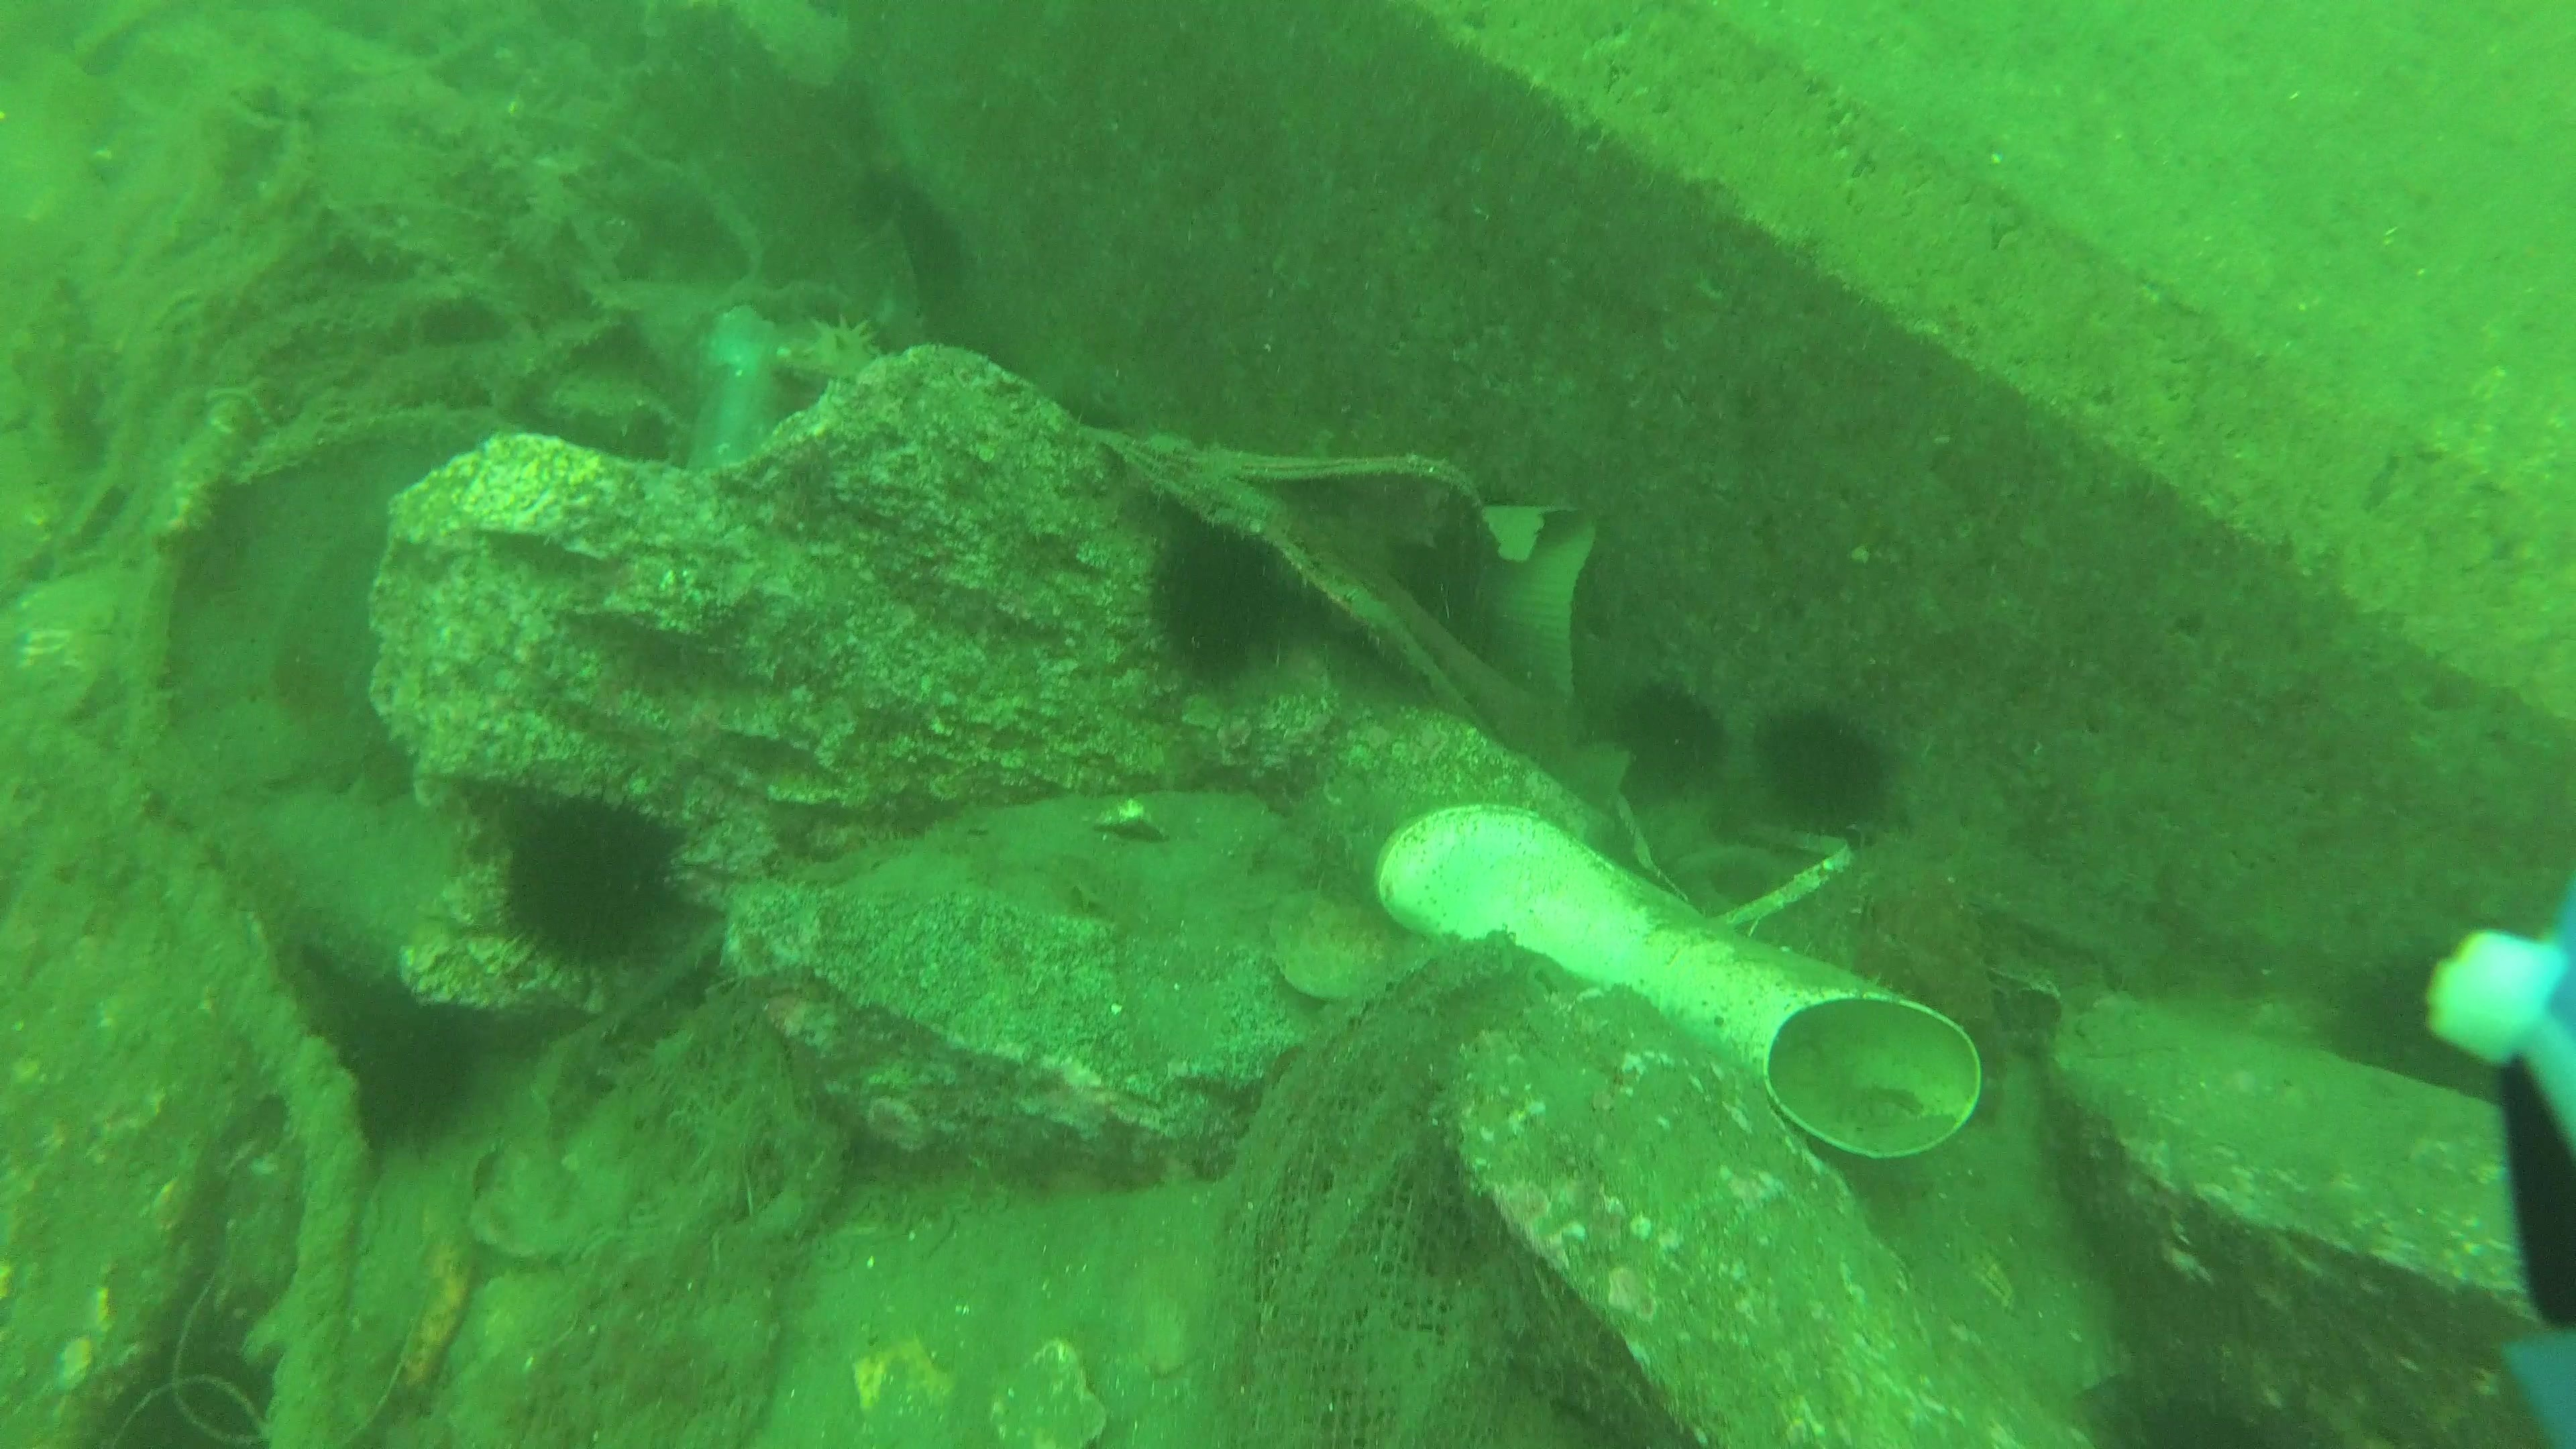echinus: (488, 775, 708, 978), (2325, 945, 2507, 1115), (1145, 522, 1299, 694), (347, 993, 492, 1157), (1753, 699, 1897, 840), (97, 1348, 287, 1449), (1608, 674, 1743, 800), (849, 166, 973, 295), (2111, 1389, 2277, 1449), (1047, 387, 1127, 432)
holothurian: (800, 310, 883, 380)
